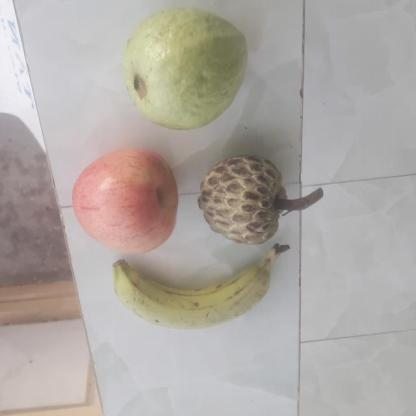annona: (193, 154, 284, 243)
apple: (106, 253, 276, 338), (68, 150, 184, 256)
guava: (118, 10, 246, 127)
